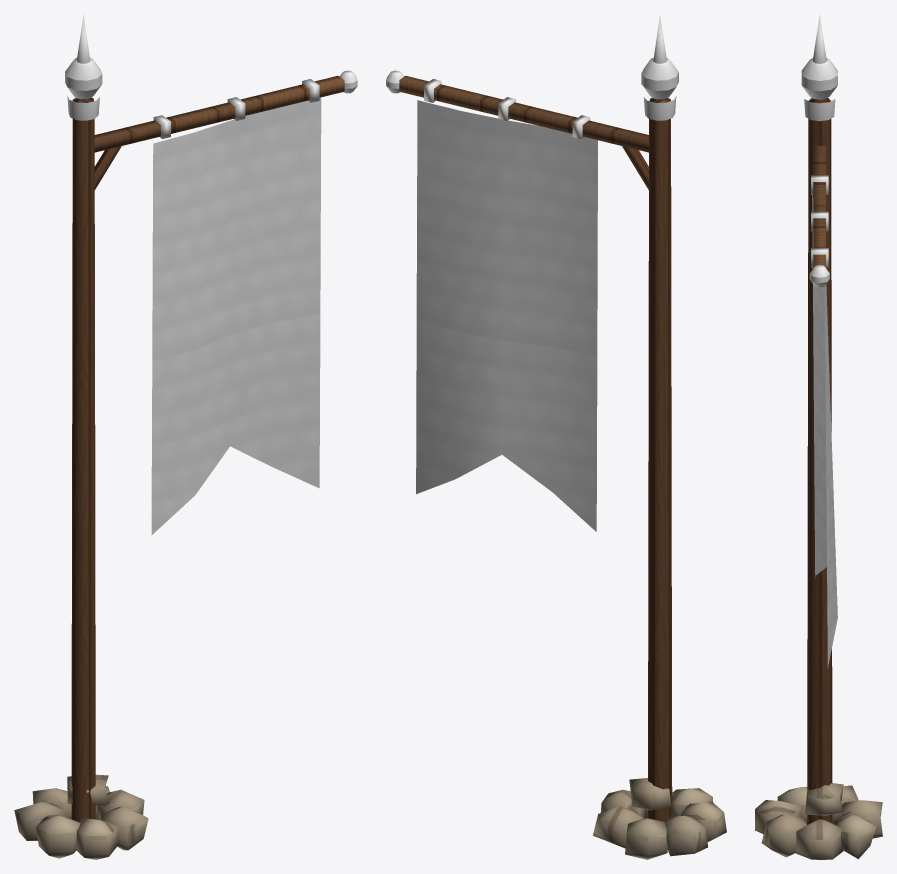
Rendered from banner.owner.glb.
3 renders of one model, left to right at view 1: azimuth 30°, elevation 25°; view 2: azimuth 150°, elevation 25°; view 3: azimuth 270°, elevation 25°, orthographic.
Parts seen in each view (by area): view 1: banner, prop.banner.owner.mesh, banner.mount; view 2: banner, prop.banner.owner.mesh, banner.mount; view 3: prop.banner.owner.mesh, banner, banner.mount.
Boxes of the visible parts, bbox=[...] form: banner: bbox=[151, 97, 321, 534]; prop.banner.owner.mesh: bbox=[14, 15, 357, 859]; banner.mount: bbox=[153, 79, 319, 138]; banner: bbox=[416, 100, 597, 531]; prop.banner.owner.mesh: bbox=[386, 15, 726, 859]; banner.mount: bbox=[424, 79, 590, 138]; prop.banner.owner.mesh: bbox=[755, 14, 882, 859]; banner: bbox=[812, 195, 837, 668]; banner.mount: bbox=[811, 175, 828, 267].
Size of the model in its own units: 1.49 by 3.63 by 0.5059.
4 materials, 4 textured.
